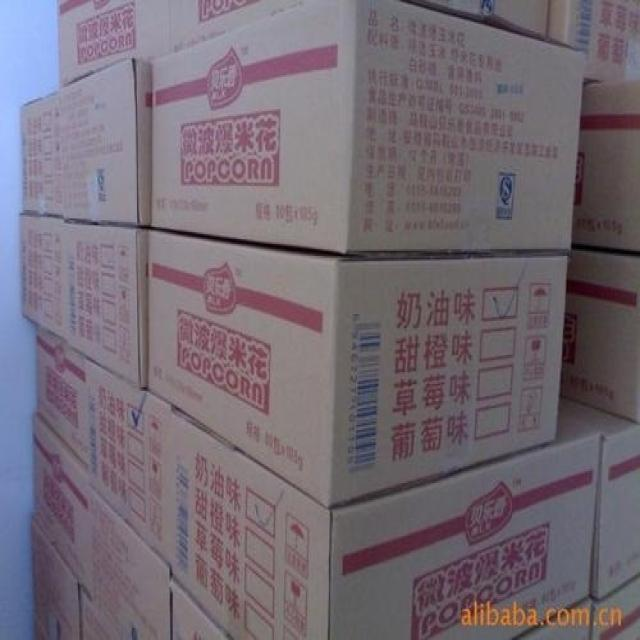box: (146, 230, 570, 507), (148, 0, 586, 256), (164, 404, 600, 640), (82, 353, 169, 560), (559, 396, 640, 601), (60, 56, 150, 227), (60, 222, 147, 391), (561, 249, 640, 422), (90, 490, 169, 640), (572, 75, 640, 249), (35, 410, 95, 597), (58, 0, 170, 85), (545, 0, 640, 85), (36, 326, 86, 466), (18, 89, 64, 217), (33, 519, 79, 640), (19, 213, 61, 336), (416, 0, 548, 36), (168, 577, 233, 638), (590, 572, 640, 640), (78, 587, 137, 640), (512, 601, 591, 640)
